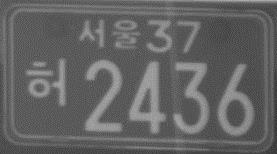2: (83, 57, 125, 135)
3: (171, 60, 211, 135), (145, 17, 171, 52)
4: (127, 60, 167, 135)
6: (216, 62, 254, 137)
7: (174, 18, 202, 55)
서울_O: (76, 17, 142, 50)
허: (23, 57, 69, 108)
